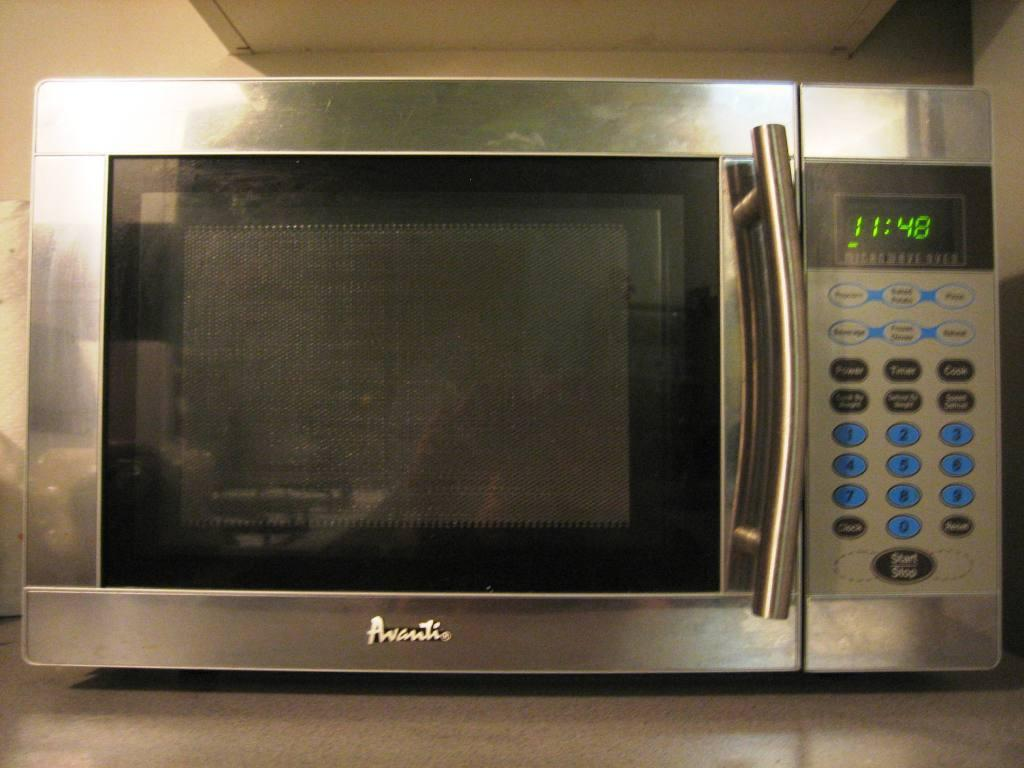Electrodomestico: (46, 86, 1008, 674)
